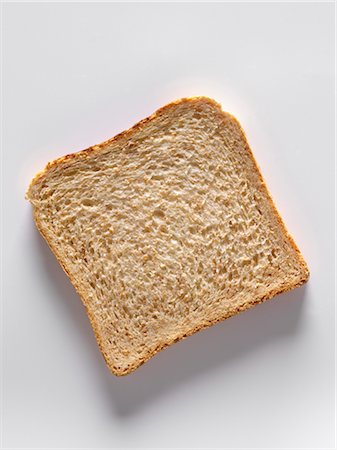slice of bread: (22, 91, 314, 388)
